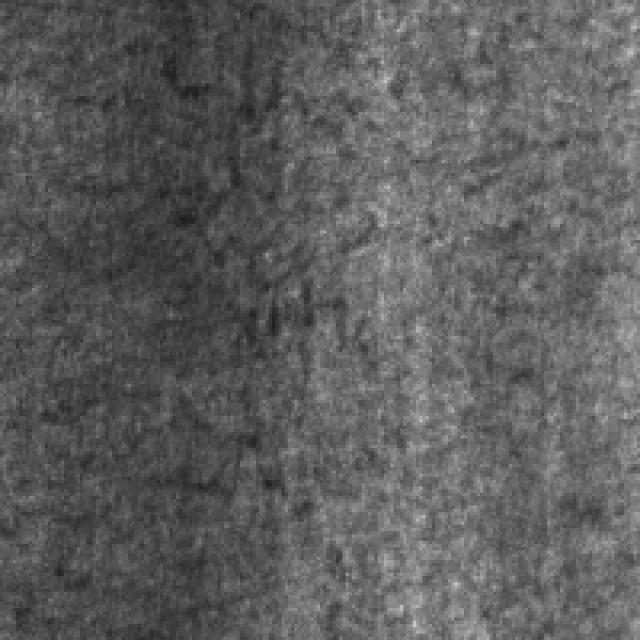crazing: (144, 26, 368, 390)
